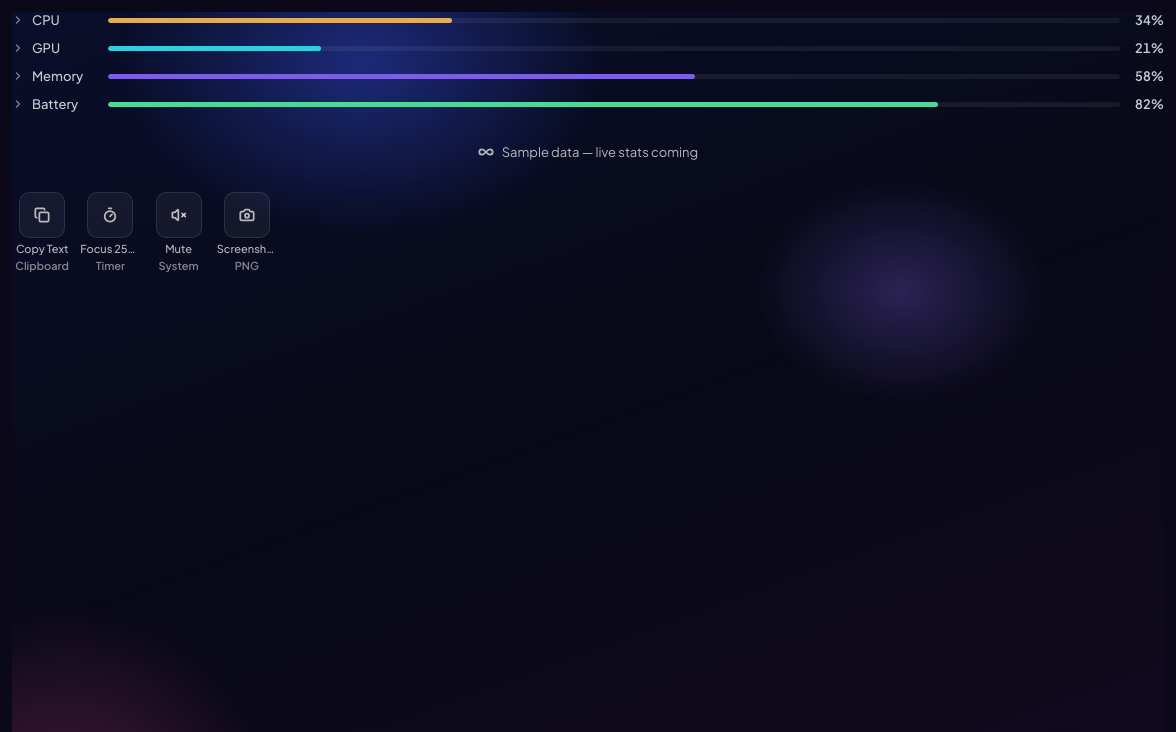
Test: SystemToolsWidget › renders system rows with expandable detail and the tool grid
Expected: the text "GPU" is shown, [32,40,60,56]
Expected: the text "Memory" is shown, [32,68,88,84]
Click the text "CPU". click: [46, 20]
box: [32,12,60,28]
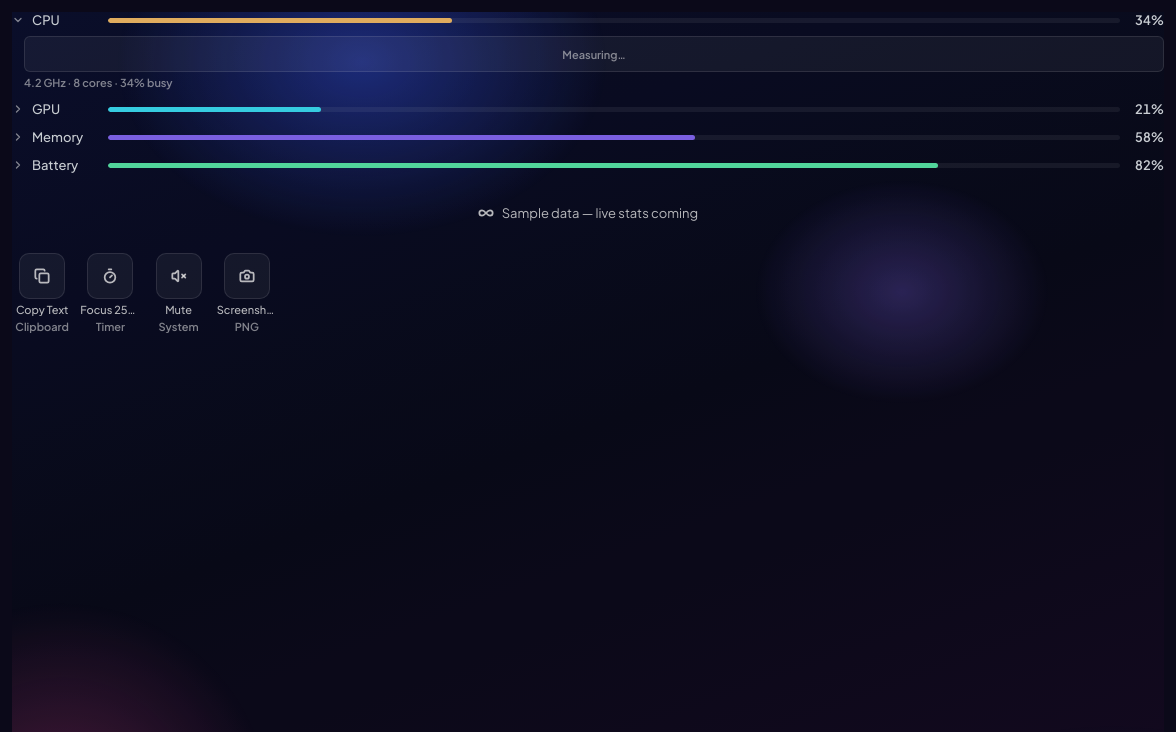
Expected: the text "Sample data — live stats coming" is shown, [502,205,698,221]
Result: the text "4.2 GHz · 8 cores · 34% busy" is shown at [24,76,173,89]
Click the button "Mute System". click: [179, 293]
box: [148,253,209,333]
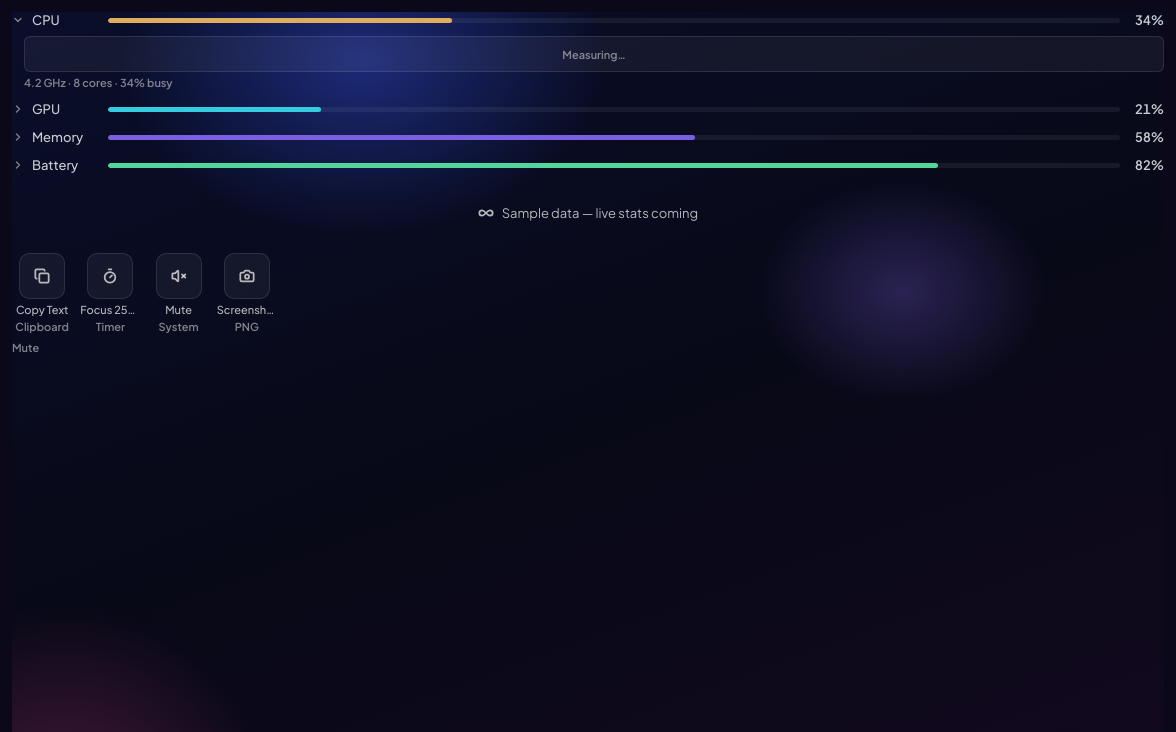
Result: the message named "Tool notice" is shown at [12,341,39,354]
